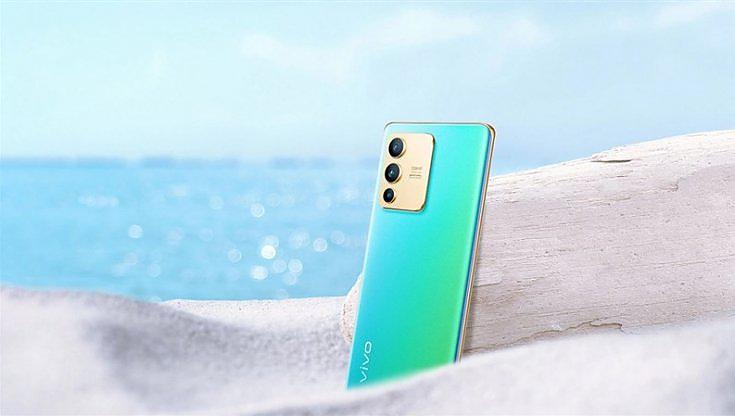Smartphone: (338, 106, 499, 396)
